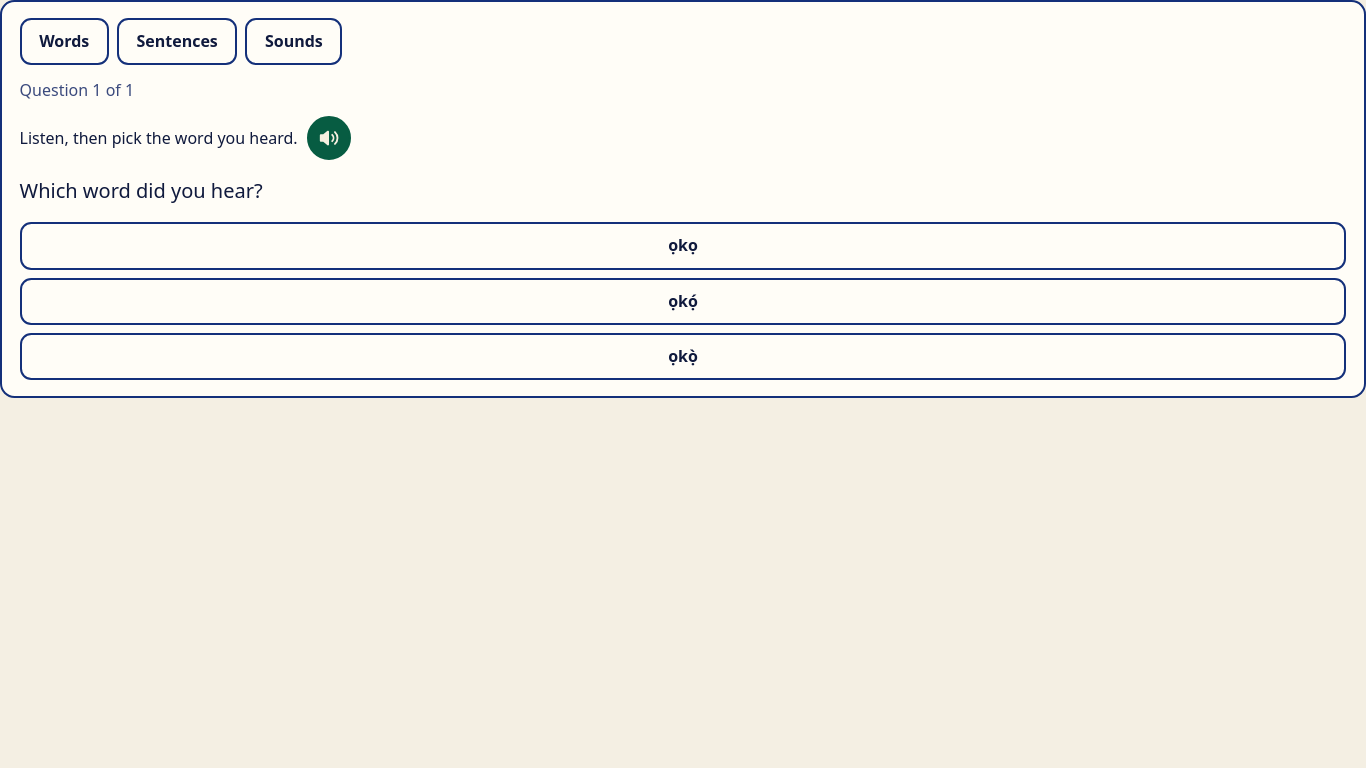
Test: TonePractice › resets to question 1 and score 0 when the mode changes mid-round
Step 1. Click the button with test id "choice" showing "ọkọ̀" → (683, 356), box [20, 333, 1346, 380]
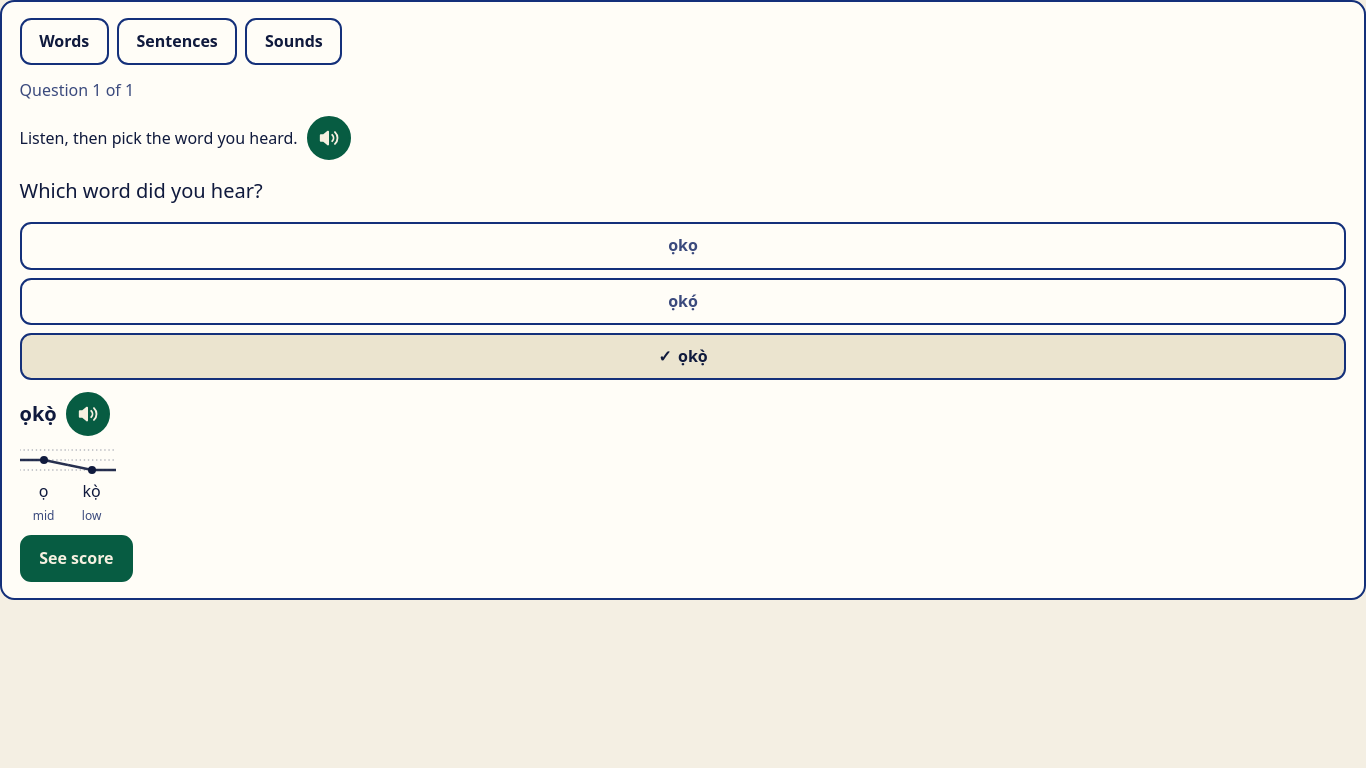
Step 2. Click the button "Sentences" → (177, 42), box [117, 18, 237, 65]
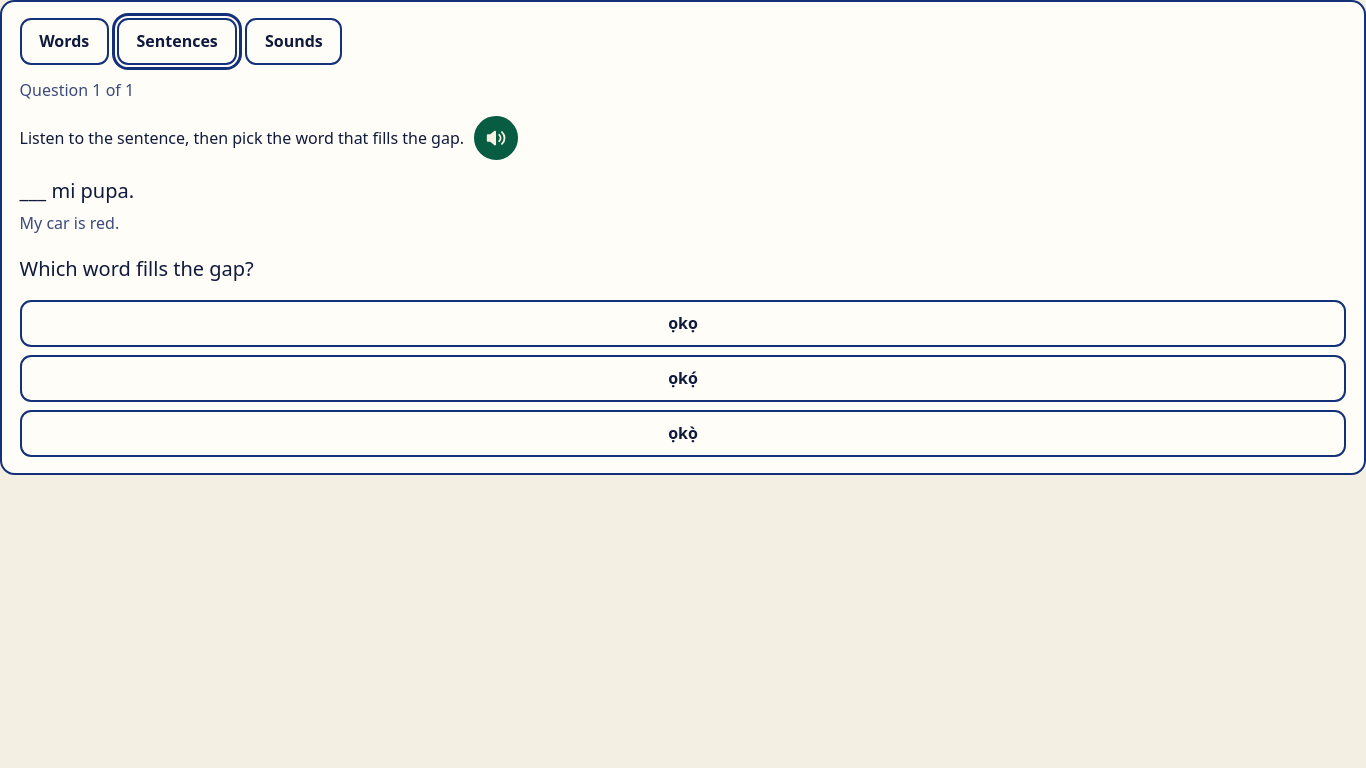
Step 3. Click the button "Words" → (64, 42), box [20, 18, 109, 65]
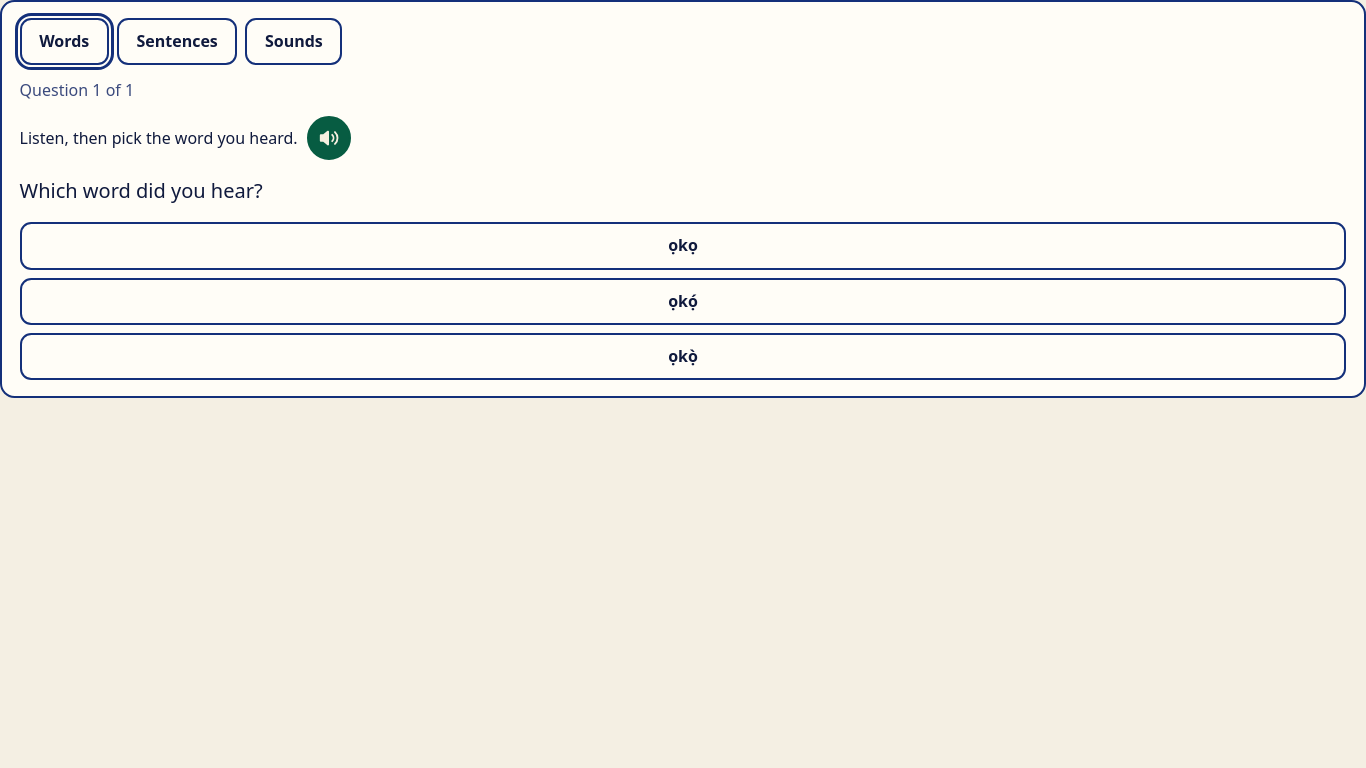
expect the text "Question 1 of 1" is shown: met, box [20, 79, 134, 101]
Step 4. Click the button with test id "choice" showing "ọkọ" → (683, 246), box [20, 222, 1346, 270]
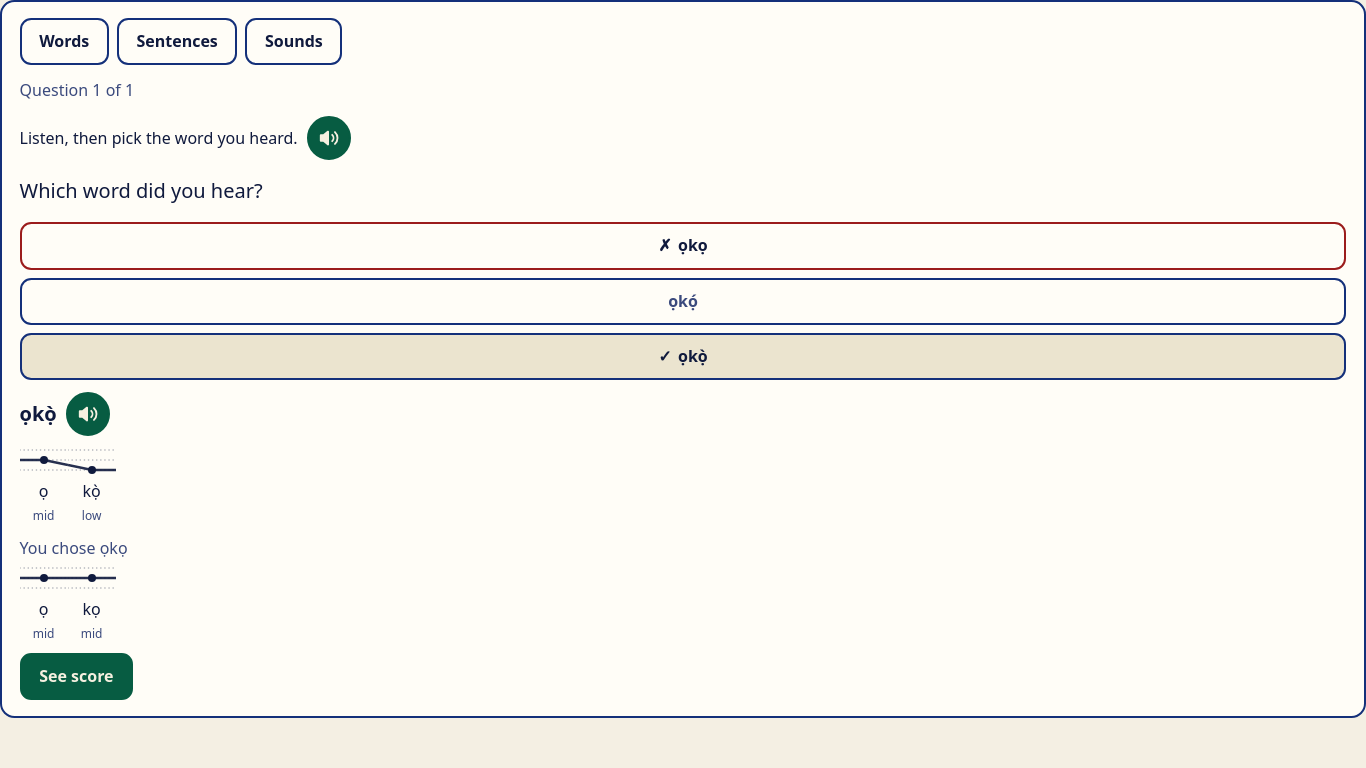
Step 5. Click the button "See score" → (76, 676), box [20, 653, 133, 700]
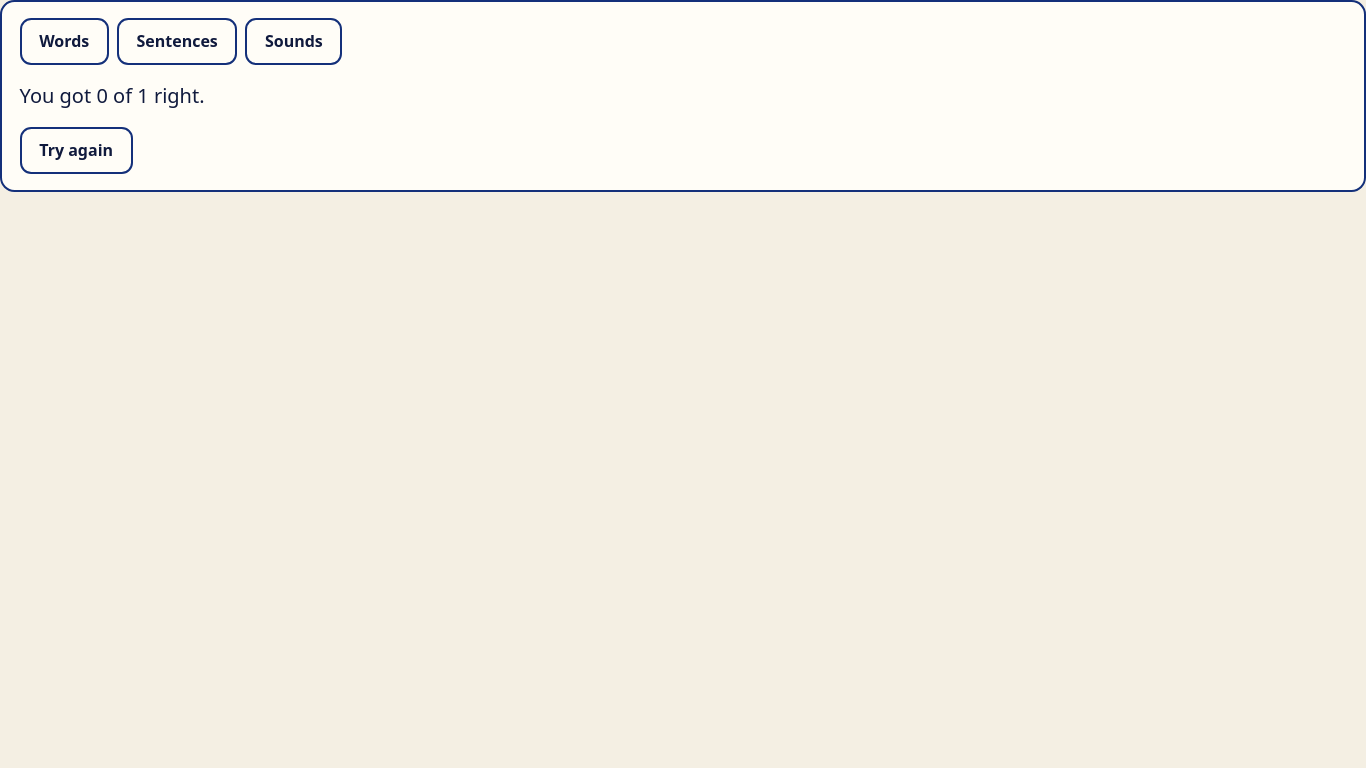
expect the text "You got 0 of 1 right." is shown: met, box [20, 82, 205, 109]
